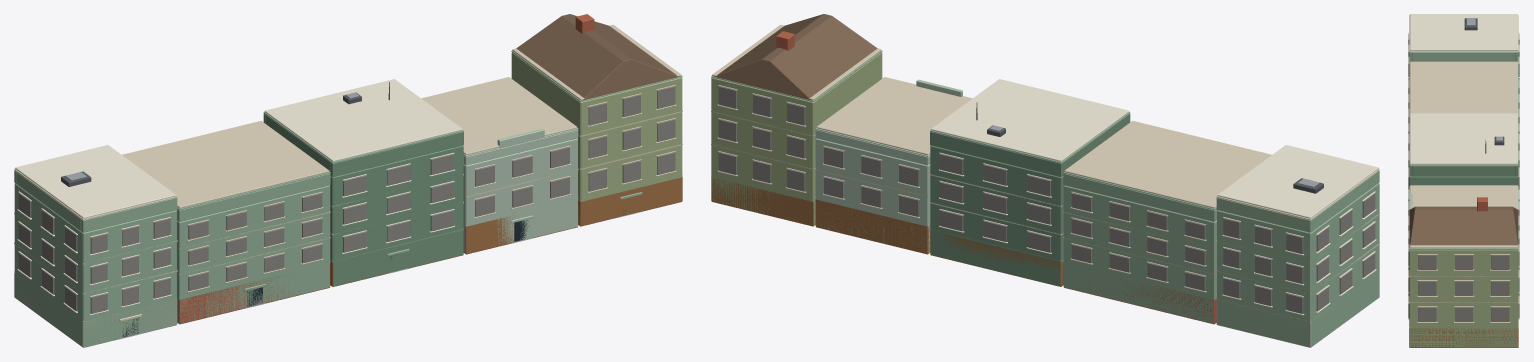
Rendered from VG_Bld_Residential_21.fbx.
3 renders of one model, left to right at view 1: azimuth 30°, elevation 25°; view 2: azimuth 150°, elevation 25°; view 3: azimuth 270°, elevation 25°, orthographic. The views are drawn at different scales.
Parts seen in each view (by area): view 1: VG_Bld_Residential_21_Body; view 2: VG_Bld_Residential_21_Body; view 3: VG_Bld_Residential_21_Body.
Part boxes in pixels (x1,y1,x2,y2): VG_Bld_Residential_21_Body: (14,14,682,347); VG_Bld_Residential_21_Body: (711,14,1379,347); VG_Bld_Residential_21_Body: (1408,14,1519,347).
Bounding box in the file's own units: 79 × 20.4 × 16.
